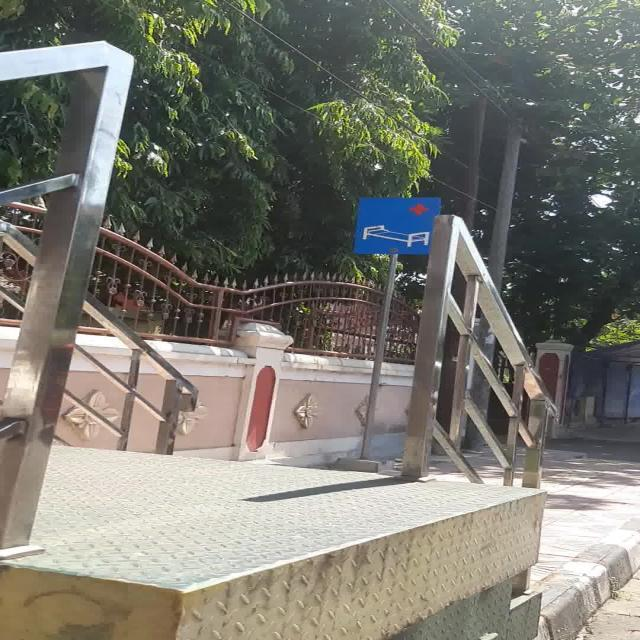Rumah Sakit: (354, 196, 430, 254)
